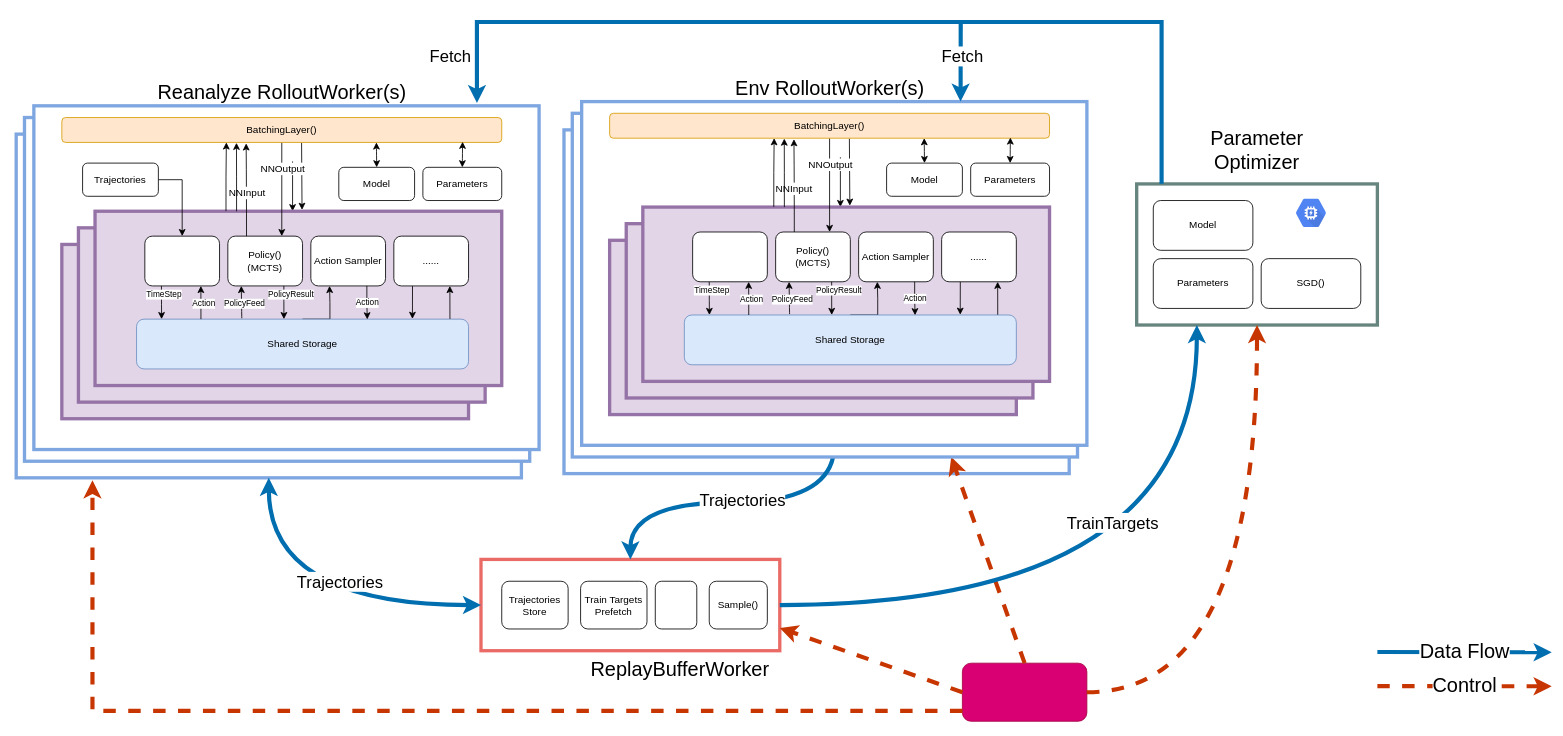
Some shapes in this 1563 by 736 pixel diagram are drawn without their labels. Each missing label, with the centre of its shape:
Driver: point 1024,691
Environment Simulator: point 182,260
Environment(): point 729,256
GPU: point 1310,212
Save(): point 675,604
